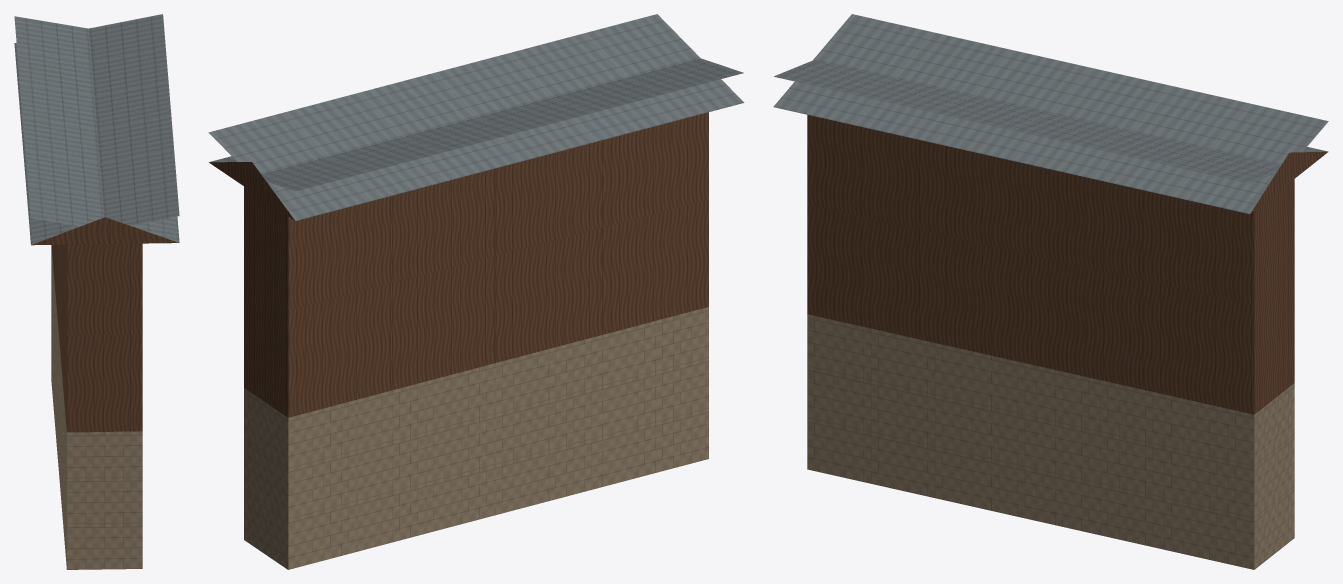
Rendered from bld_c11_8_511.gltf.
The picture shows the model from 3 angles, left to right: view 1: azimuth 30°, elevation 25°; view 2: azimuth 150°, elevation 25°; view 3: azimuth 270°, elevation 25°; orthographic projection. The views are drawn at different scales.
Visible parts, largest first — view 1: bld_c11_8_511; view 2: bld_c11_8_511; view 3: bld_c11_8_511.
Part boxes in pixels (x1,y1,x2,y2): bld_c11_8_511: (14,14,179,569); bld_c11_8_511: (208,14,744,569); bld_c11_8_511: (773,14,1328,569).
Size of the model in its own units: 11.97 by 13.3 by 16.55.
Materials: 4 (4 with a texture image).
